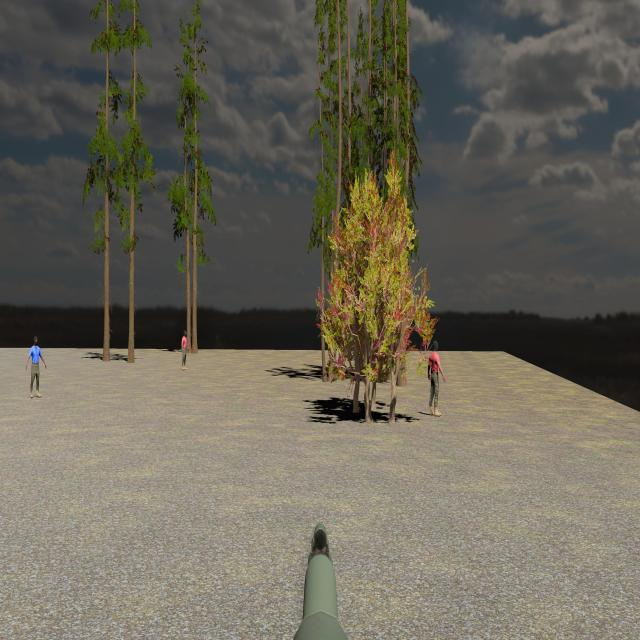Human: (428, 340, 446, 417), (26, 335, 47, 398), (181, 330, 190, 370)
